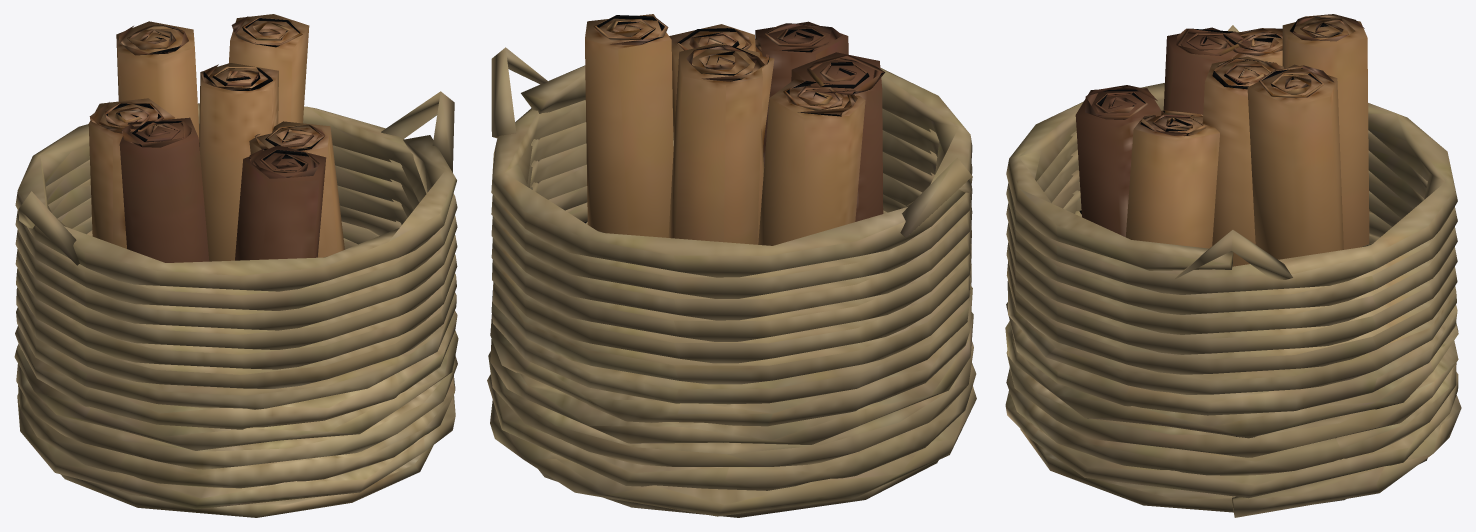
File: log_basket.glb
The picture shows the model from 3 angles, left to right: view 1: azimuth 30°, elevation 25°; view 2: azimuth 150°, elevation 25°; view 3: azimuth 270°, elevation 25°; orthographic projection. The views are drawn at different scales.
Parts seen in each view (by area): view 1: prop_log_basket_felt; view 2: prop_log_basket_felt; view 3: prop_log_basket_felt.
Boxes of the visible parts, x1=… form: prop_log_basket_felt: x1=14, y1=14, x2=458, y2=517; prop_log_basket_felt: x1=487, y1=14, x2=976, y2=517; prop_log_basket_felt: x1=1005, y1=14, x2=1461, y2=517.
Size of the model in its own units: 1.17 by 0.9511 by 1.03.
1 material, 1 textured.
